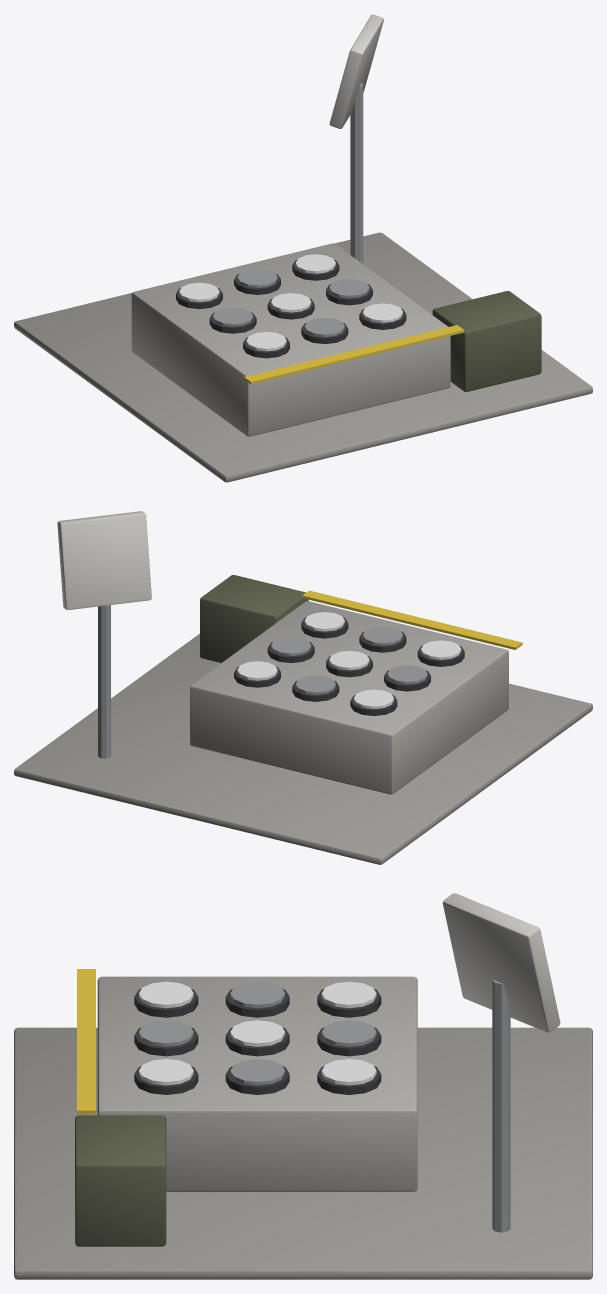
File: abm_site.glb
The picture shows the model from 3 angles, top to bottom: view 1: azimuth 30°, elevation 25°; view 2: azimuth 150°, elevation 25°; view 3: azimuth 270°, elevation 25°; orthographic projection. The views are drawn at different scales.
Parts seen in each view (by area): view 1: body; view 2: body; view 3: body.
Part boxes in pixels (bbox=[...]): body: bbox=[14, 14, 592, 482]; body: bbox=[14, 511, 592, 864]; body: bbox=[14, 893, 592, 1279].
Size of the model in its own units: 7.6 by 4.85 by 7.6.
